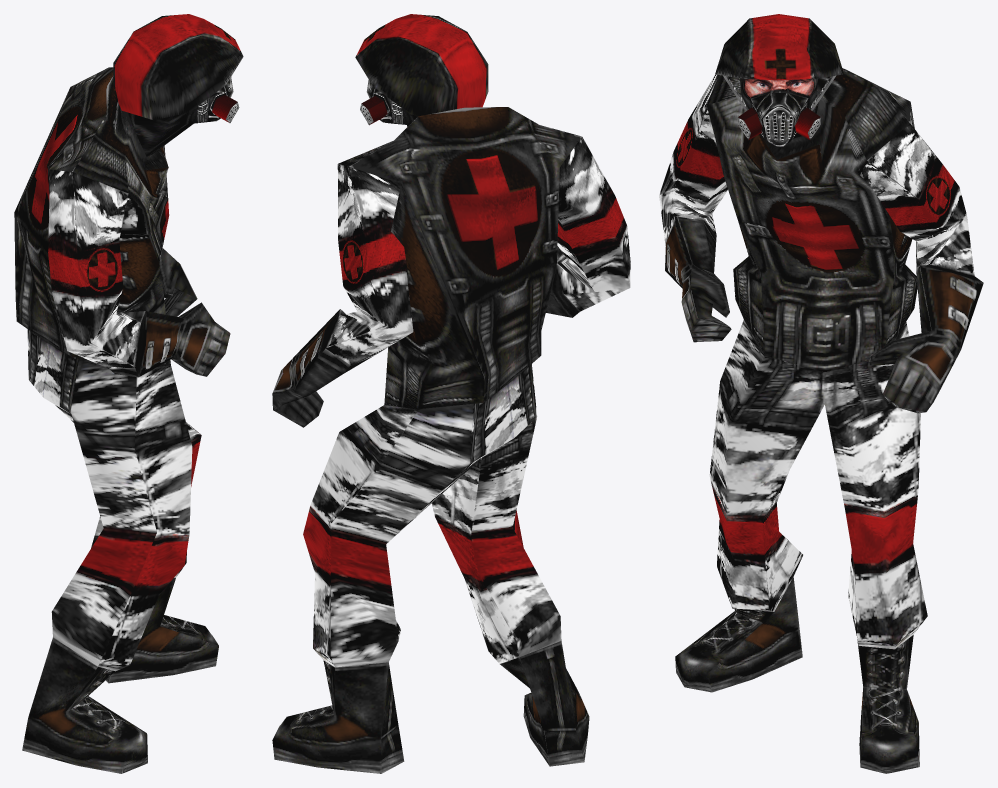
The model's file is medic.glb.
3 views of the same model, side by side, from view 1: azimuth 30°, elevation 25°; view 2: azimuth 150°, elevation 25°; view 3: azimuth 270°, elevation 25° (orthographic). The views are drawn at different scales.
Parts seen in each view (by area): view 1: medic; view 2: medic; view 3: medic.
Part boxes in pixels (x1,y1,x2,y2): medic: (14, 14, 243, 773); medic: (272, 14, 630, 773); medic: (659, 14, 983, 773).
Size of the model in its own units: 25.91 by 68.52 by 28.48.
Materials: 2 (2 with a texture image).
